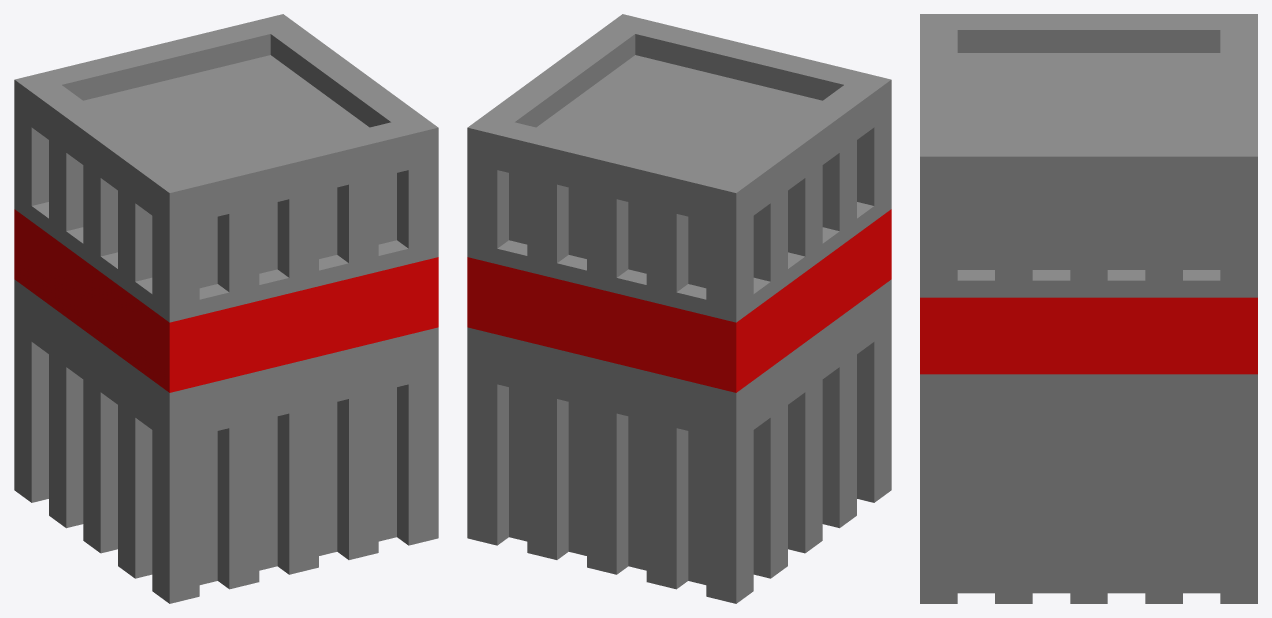
Rendered from Tower02.FBX.
The picture shows the model from 3 angles, left to right: view 1: azimuth 30°, elevation 25°; view 2: azimuth 150°, elevation 25°; view 3: azimuth 270°, elevation 25°; orthographic projection. The views are drawn at different scales.
Parts seen in each view (by area): view 1: Tower02Top, Tower02Bottom, Tower02Mid; view 2: Tower02Top, Tower02Bottom, Tower02Mid; view 3: Tower02Top, Tower02Bottom, Tower02Mid.
Part boxes in pixels (box(x1,y1,x2,y2)): Tower02Top: box(14, 14, 438, 322); Tower02Bottom: box(14, 279, 438, 603); Tower02Mid: box(14, 209, 438, 392); Tower02Top: box(467, 14, 891, 322); Tower02Bottom: box(467, 279, 891, 603); Tower02Mid: box(467, 209, 891, 392); Tower02Top: box(920, 14, 1257, 297); Tower02Bottom: box(920, 374, 1257, 603); Tower02Mid: box(920, 297, 1257, 374).
Size of the model in its own units: 40 by 58.41 by 40.
